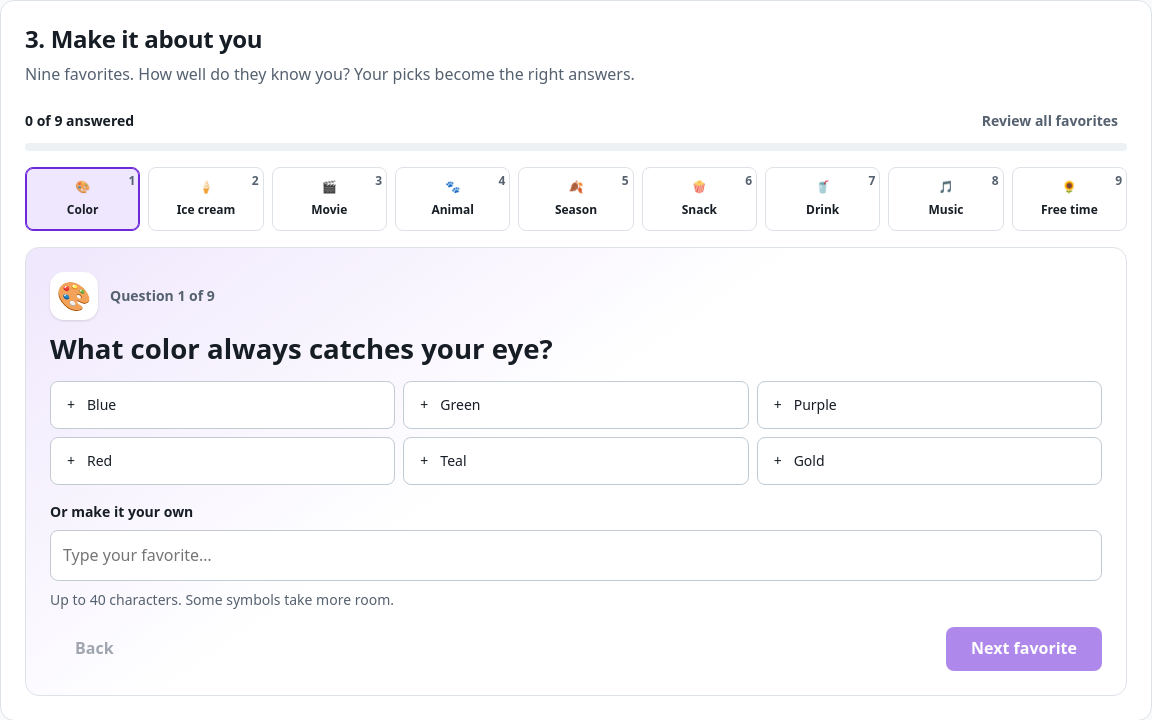
Scenario: lets people jump to any question without claiming skipped answers are finished
The image size is (1152, 720).
Click the button with aria-label "Question 9:".
click(1069, 199)  # box left=1012, top=167, right=1127, bottom=231
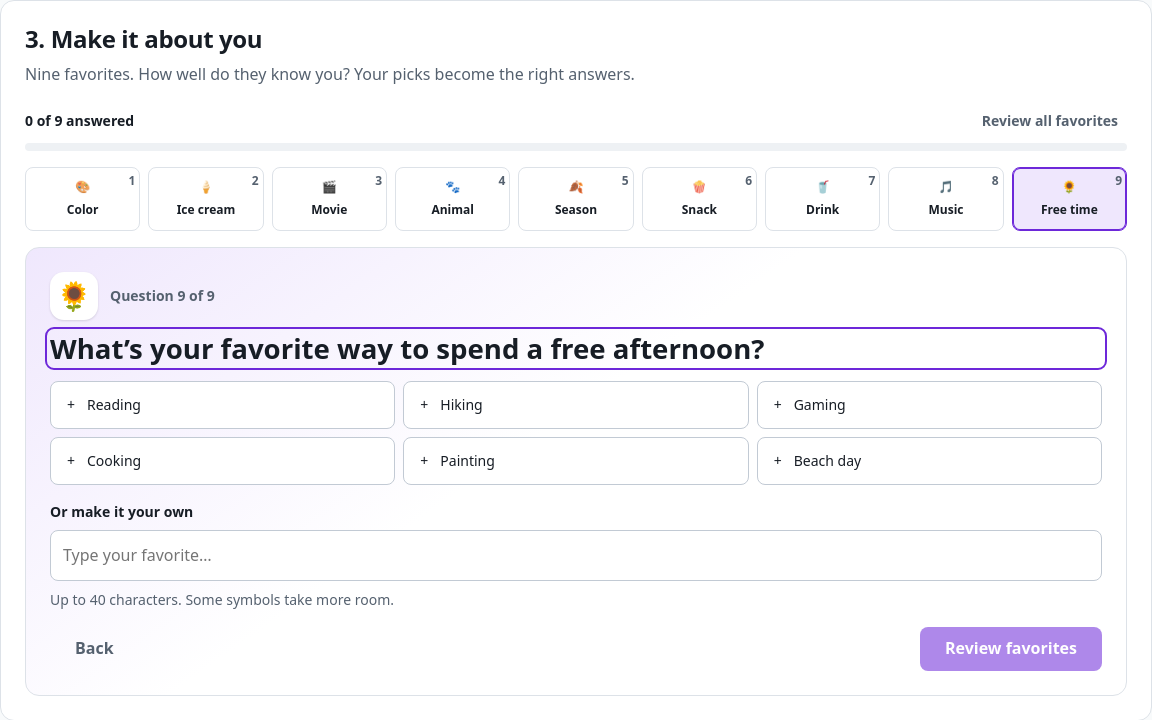
Expected: the button with aria-label "Question 9:" is marked as current, left=1012, top=167, right=1127, bottom=231
Click the button "+ Beach day".
click(827, 460)  # box left=757, top=437, right=1102, bottom=485
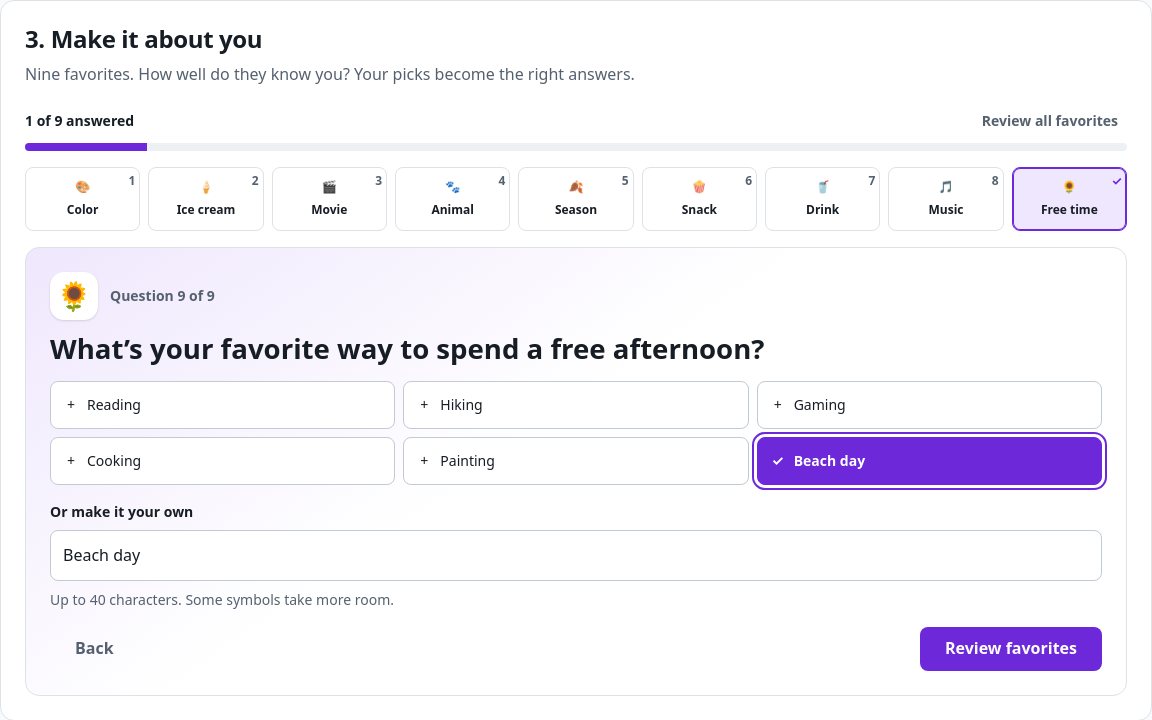
Click the button "Review favorites".
click(1011, 649)  # box left=920, top=627, right=1102, bottom=671
(page scrolled)
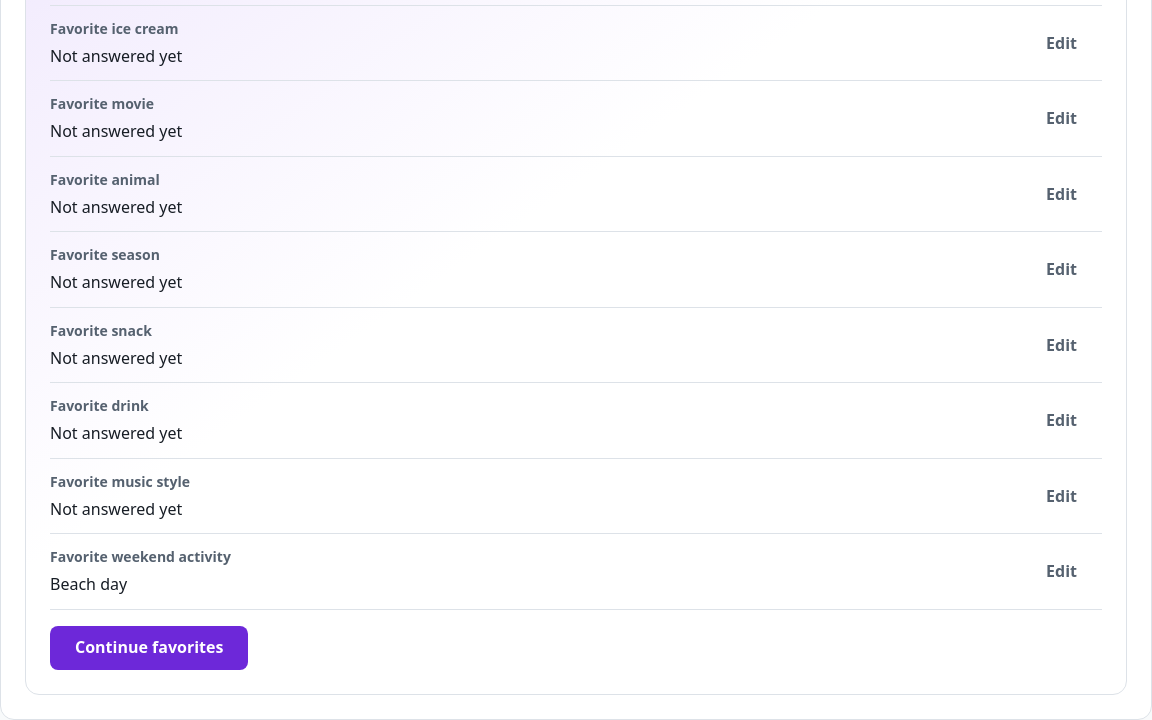
Expected: the text "Not answered yet" is shown 8 times
Click the button "Continue favorites".
click(149, 648)  # box left=50, top=626, right=248, bottom=670
(page scrolled)
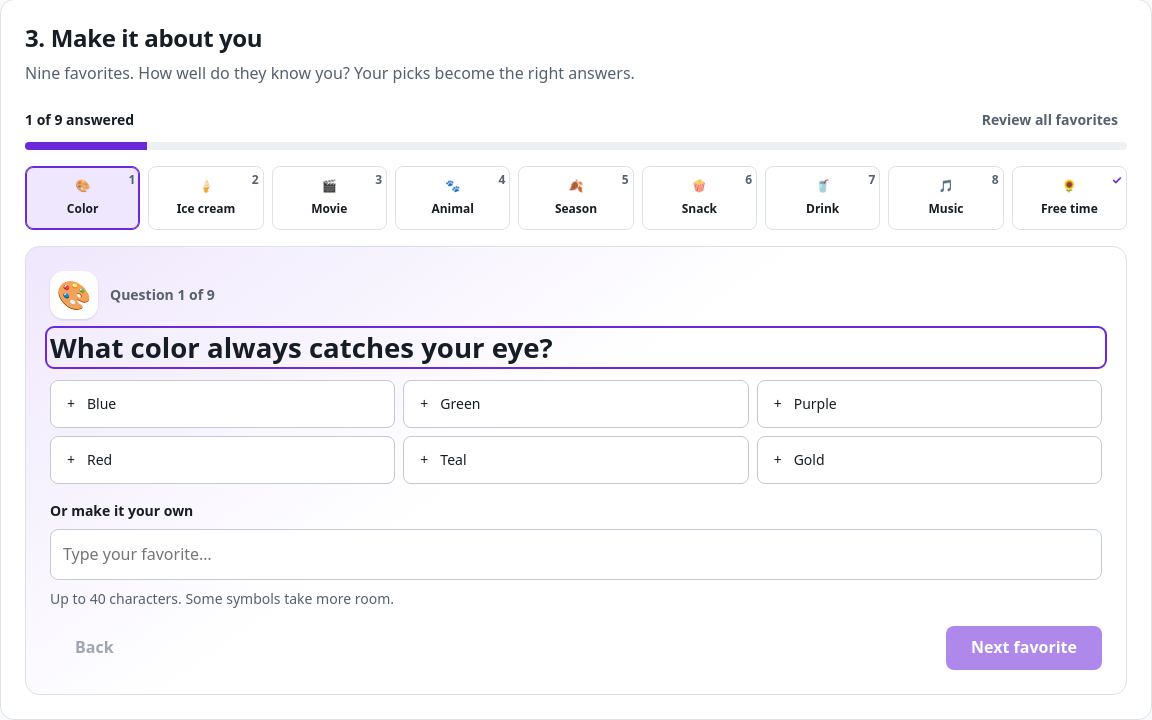
Expected: the field labelled "What color always catches your eye?" is empty, left=50, top=529, right=1102, bottom=580
Click the button with aria-label "Question 9:".
click(1069, 198)  # box left=1012, top=166, right=1127, bottom=230
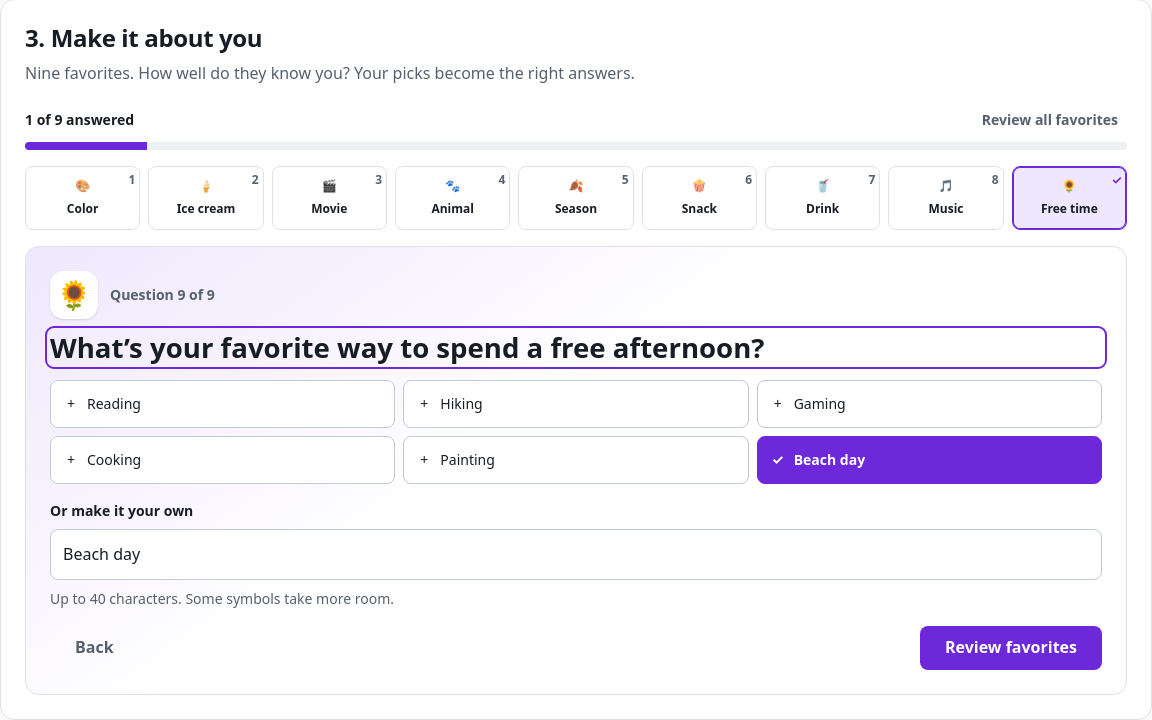
Expected: the field labelled "What’s your favorite way to spend a free afternoon?" holds "Beach day", left=50, top=529, right=1102, bottom=580
